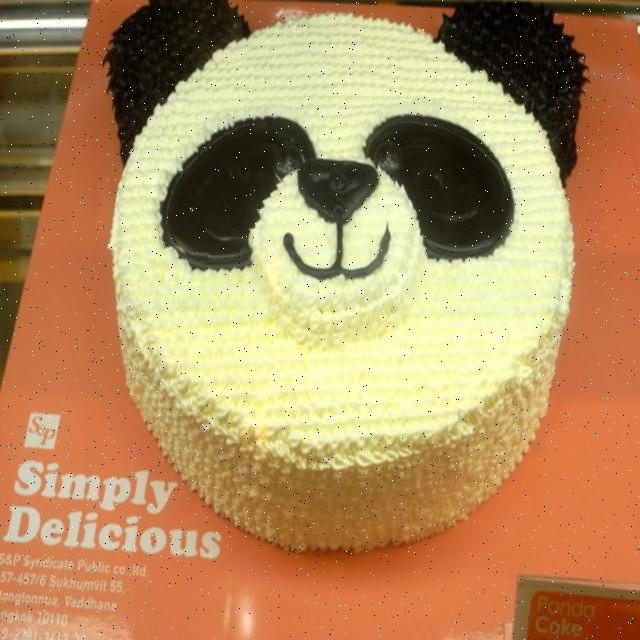panda: (103, 0, 593, 557)
